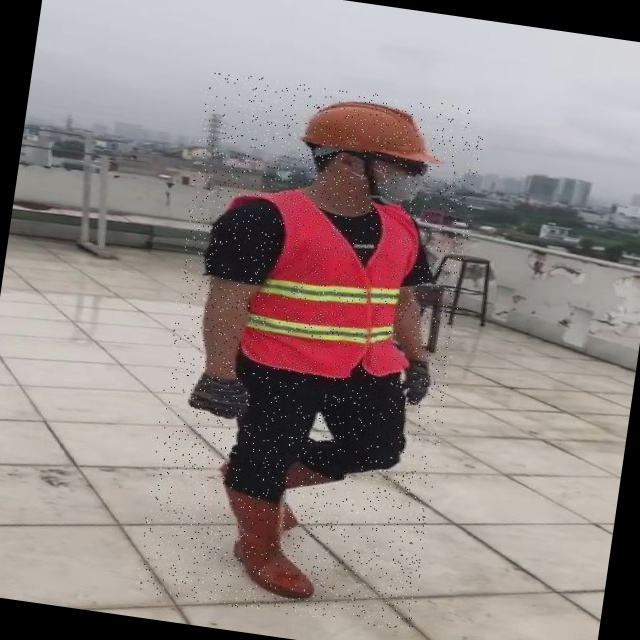boots: (247, 497, 357, 600)
gloves: (198, 391, 262, 432), (410, 343, 440, 391)
helmet: (266, 92, 420, 158)
vest: (246, 192, 412, 374)
